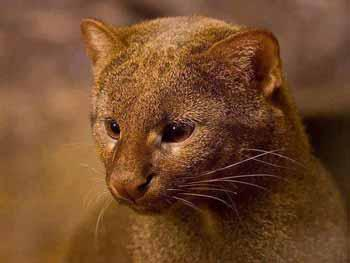Jaguarundi: (75, 12, 345, 263)
